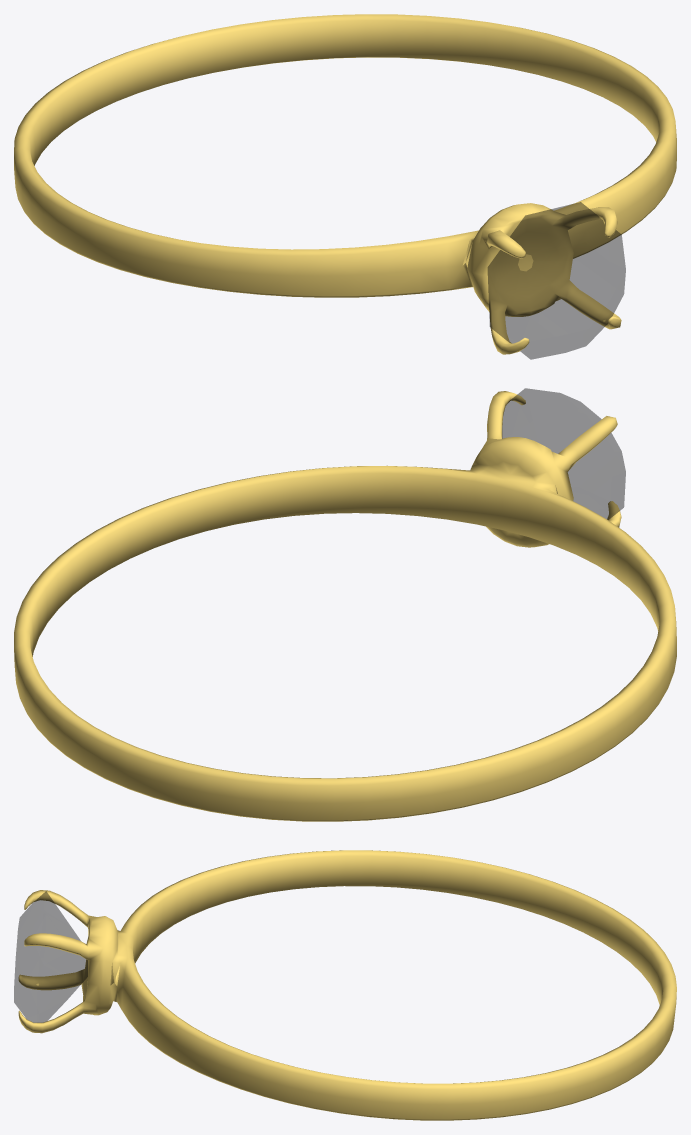
File: Diamond_Ring.glb
3 views of the same model, one above another, from view 1: azimuth 30°, elevation 25°; view 2: azimuth 150°, elevation 25°; view 3: azimuth 270°, elevation 25° (orthographic). The views are drawn at different scales.
Parts seen in each view (by area): view 1: Ring_base, Diamond; view 2: Ring_base, Diamond; view 3: Ring_base, Diamond.
Part boxes in pixels (box(x1,y1,x2,y2)): Ring_base: box(14, 14, 676, 354); Diamond: box(488, 202, 625, 359); Ring_base: box(14, 391, 676, 821); Diamond: box(502, 388, 625, 519); Ring_base: box(18, 850, 676, 1120); Diamond: box(14, 891, 87, 1022).
Bounding box in the file's own units: 0.0462 × 0.0108 × 0.0547.
